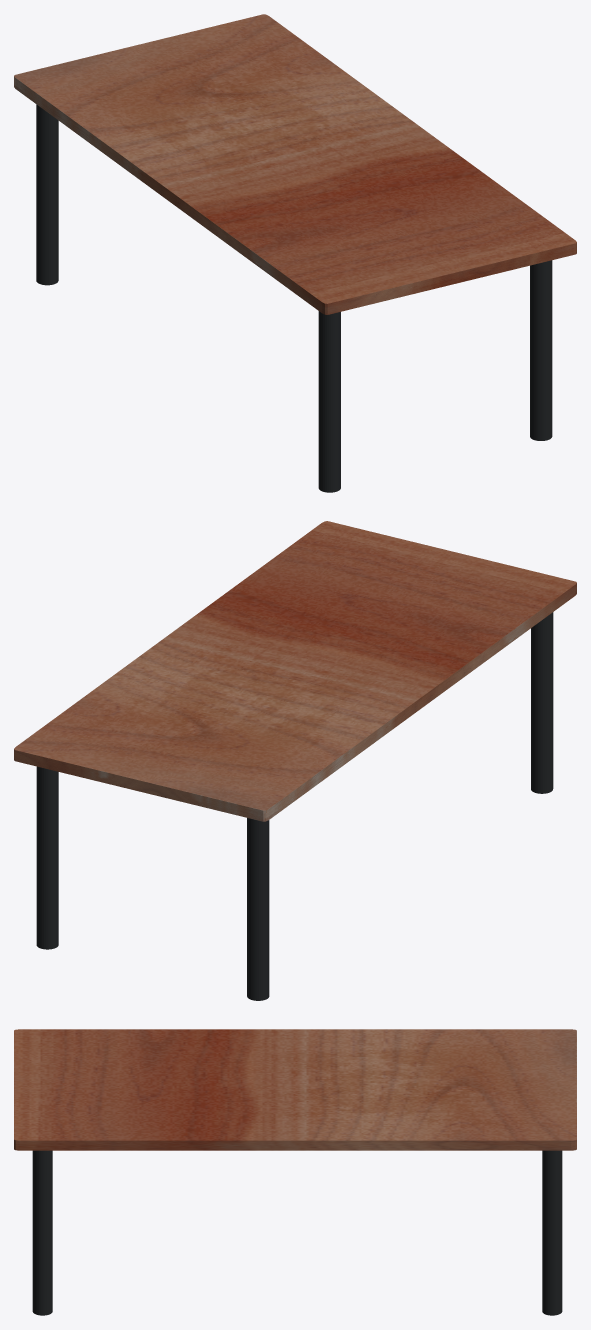
Rendered from Table.fbx.
3 views of the same model, one above another, from view 1: azimuth 30°, elevation 25°; view 2: azimuth 150°, elevation 25°; view 3: azimuth 270°, elevation 25° (orthographic). The views are drawn at different scales.
Visible parts, largest first — view 1: Cube; view 2: Cube; view 3: Cube.
Part boxes in pixels (box(x1,y1,x2,y2)): Cube: box(14, 14, 576, 492); Cube: box(14, 521, 576, 1000); Cube: box(14, 1029, 576, 1315).
Size of the model in its own units: 1313 by 991 by 2807.
2 materials, 2 textured.
